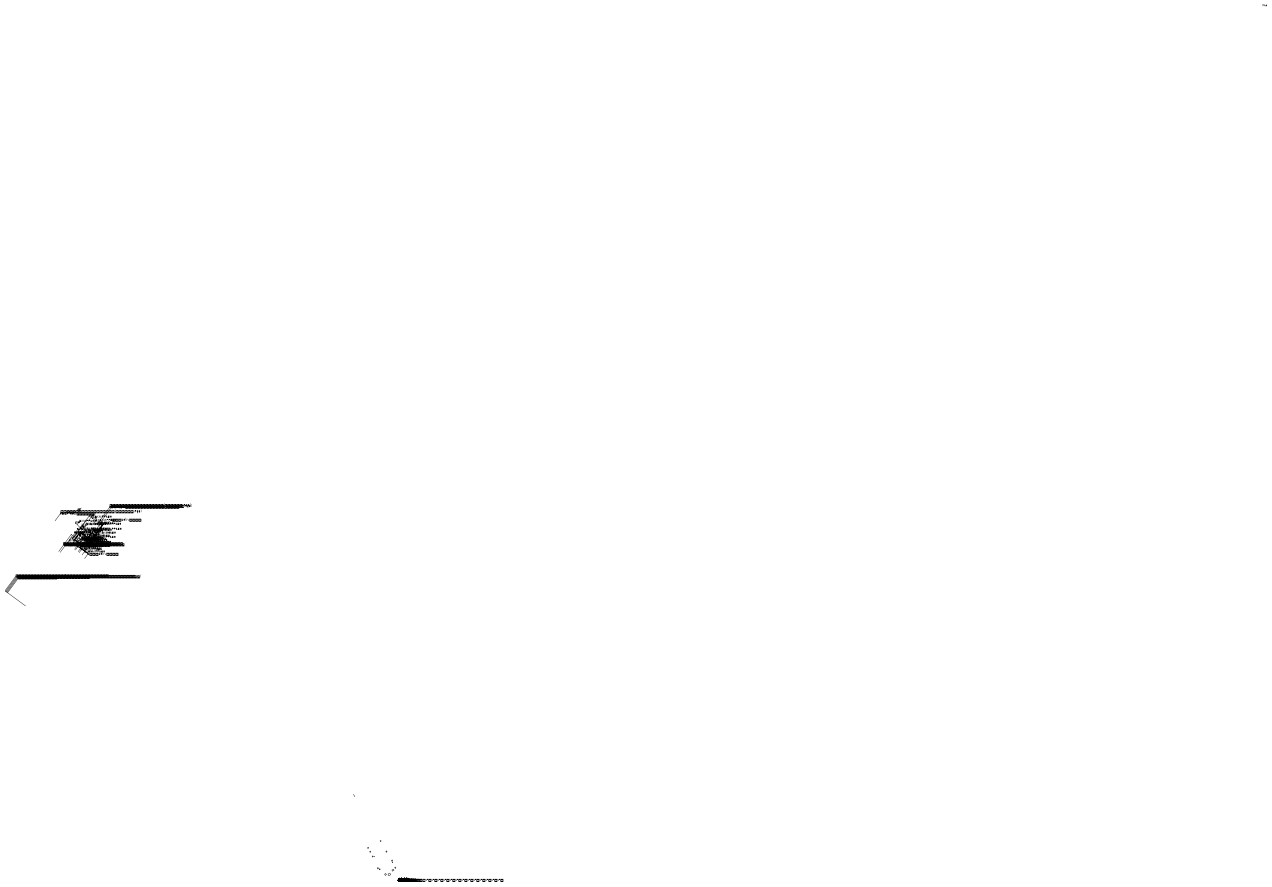wall: (1125, 200, 1129, 206)
